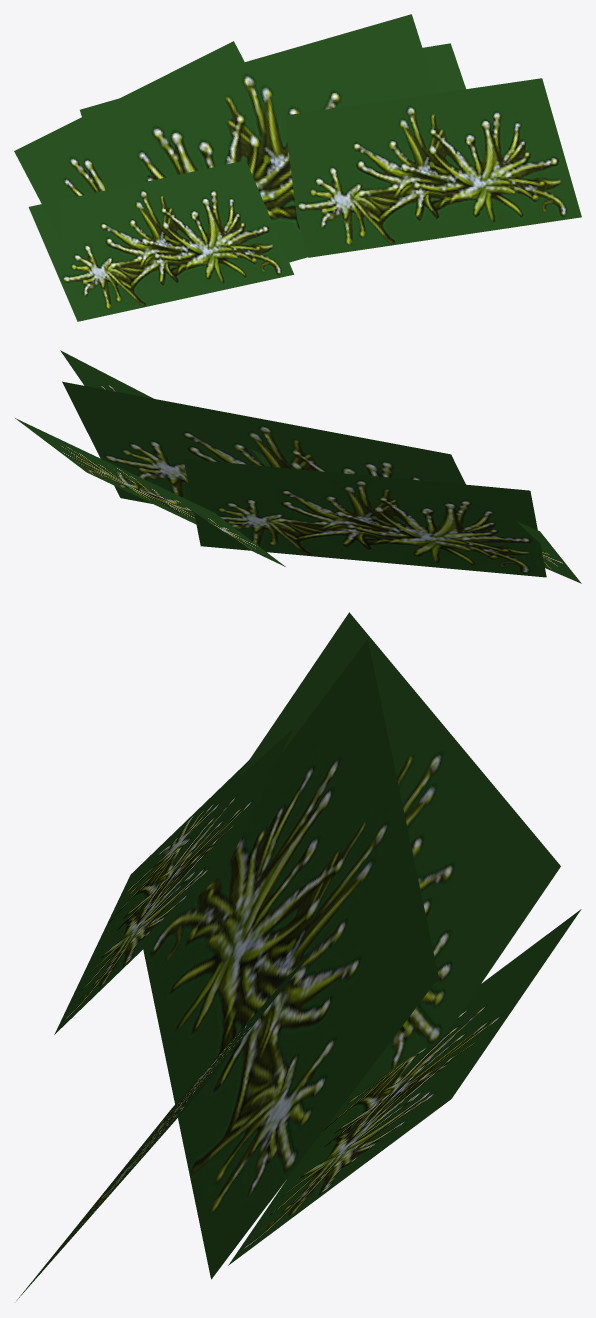
The model's file is Stage_BingYuan_ZhiWu02.FBX.
3 renders of one model, top to bottom at view 1: azimuth 30°, elevation 25°; view 2: azimuth 150°, elevation 25°; view 3: azimuth 270°, elevation 25°, orthographic. The views are drawn at different scales.
Visible parts, largest first — view 1: Stage_BingYuan_ZhiWu02; view 2: Stage_BingYuan_ZhiWu02; view 3: Stage_BingYuan_ZhiWu02.
Part boxes in pixels (left/top/right/bottom): Stage_BingYuan_ZhiWu02: left=14, top=14, right=581, bottom=321; Stage_BingYuan_ZhiWu02: left=15, top=350, right=581, bottom=583; Stage_BingYuan_ZhiWu02: left=16, top=612, right=581, bottom=1300.
Bounding box in the file's own units: 272 × 83.8 × 141.
